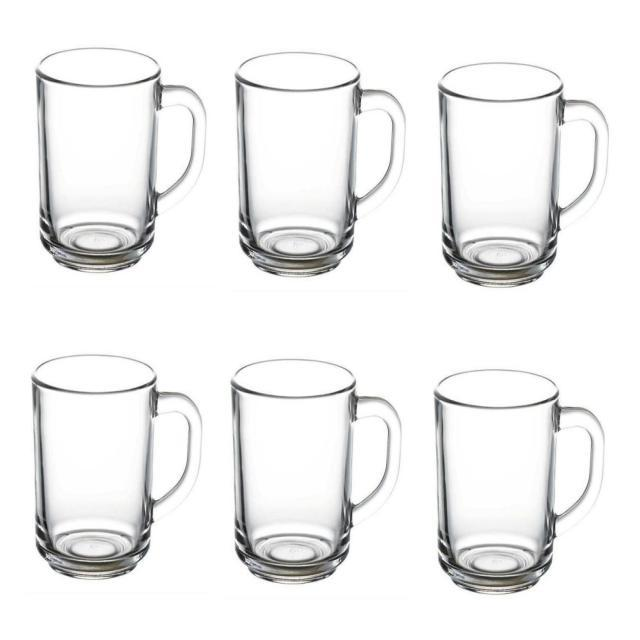Coffee Mug: (436, 50, 610, 288), (434, 362, 605, 598), (32, 45, 206, 276), (232, 49, 406, 280), (230, 356, 402, 587), (30, 353, 203, 582)
